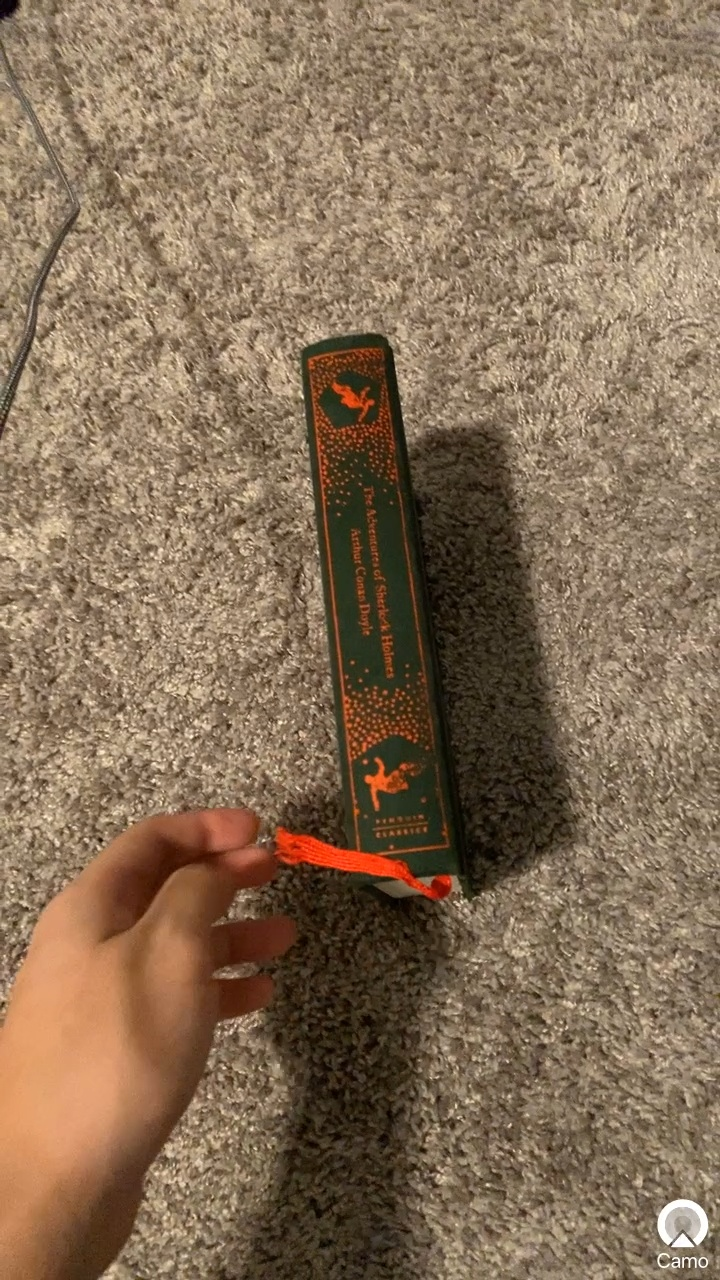Book: (250, 318, 544, 974)
